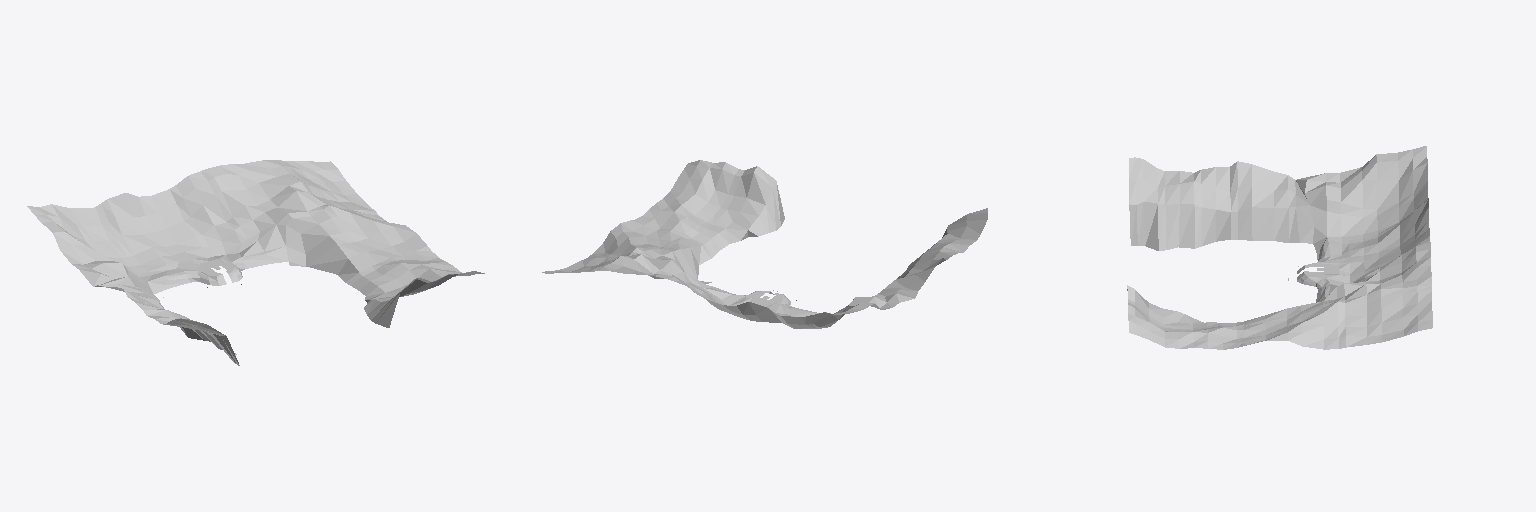
The model's file is mountains_lowPoly.obj.
The picture shows the model from 3 angles: view 1: azimuth 30°, elevation 25°; view 2: azimuth 150°, elevation 25°; view 3: azimuth 270°, elevation 25°; orthographic projection.
Visible parts, largest first — view 1: polySurface83 polySurface81 terrain1; view 2: polySurface83 polySurface81 terrain1; view 3: polySurface83 polySurface81 terrain1.
Boxes of the visible parts, x1,y1,x2,y2 form: polySurface83 polySurface81 terrain1: [27, 160, 484, 365]; polySurface83 polySurface81 terrain1: [542, 160, 987, 328]; polySurface83 polySurface81 terrain1: [1127, 146, 1432, 349].
Size of the model in its own units: 497 by 105 by 422.